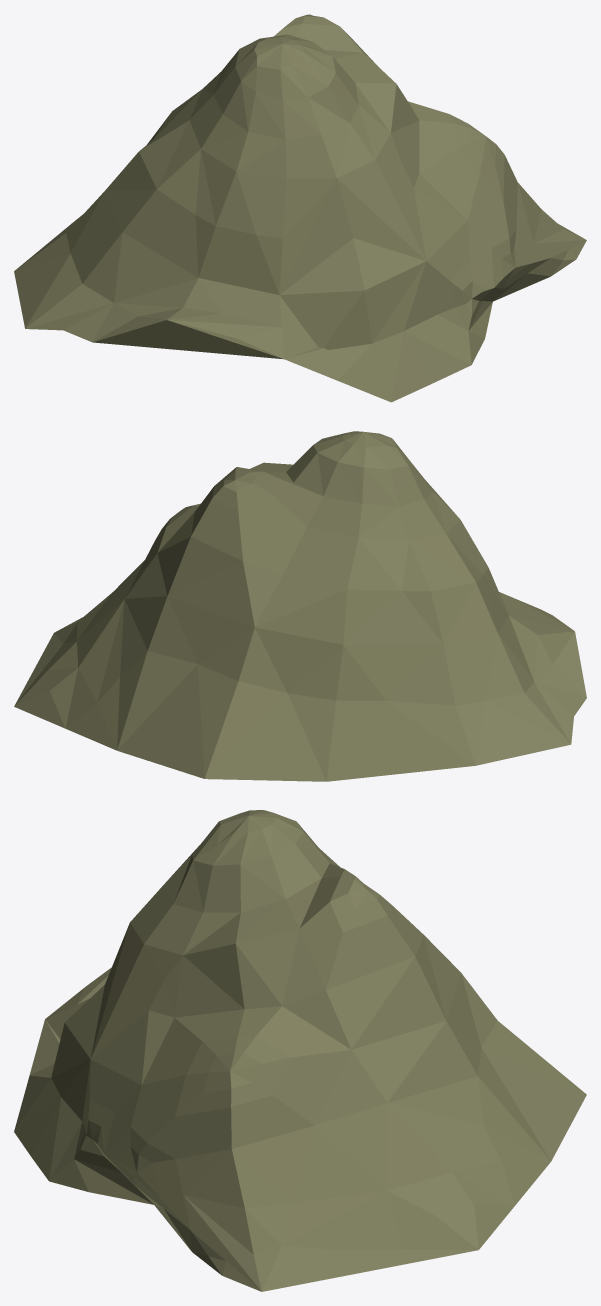
File: rock10.fbx
3 renders of one model, top to bottom at view 1: azimuth 30°, elevation 25°; view 2: azimuth 150°, elevation 25°; view 3: azimuth 270°, elevation 25°, orthographic. The views are drawn at different scales.
Parts seen in each view (by area): view 1: rock10; view 2: rock10; view 3: rock10.
Boxes of the visible parts, bbox=[...] form: rock10: bbox=[14, 14, 586, 402]; rock10: bbox=[14, 431, 586, 781]; rock10: bbox=[14, 810, 586, 1291].
Bounding box in the file's own units: 1.88 × 0.9315 × 1.54.
